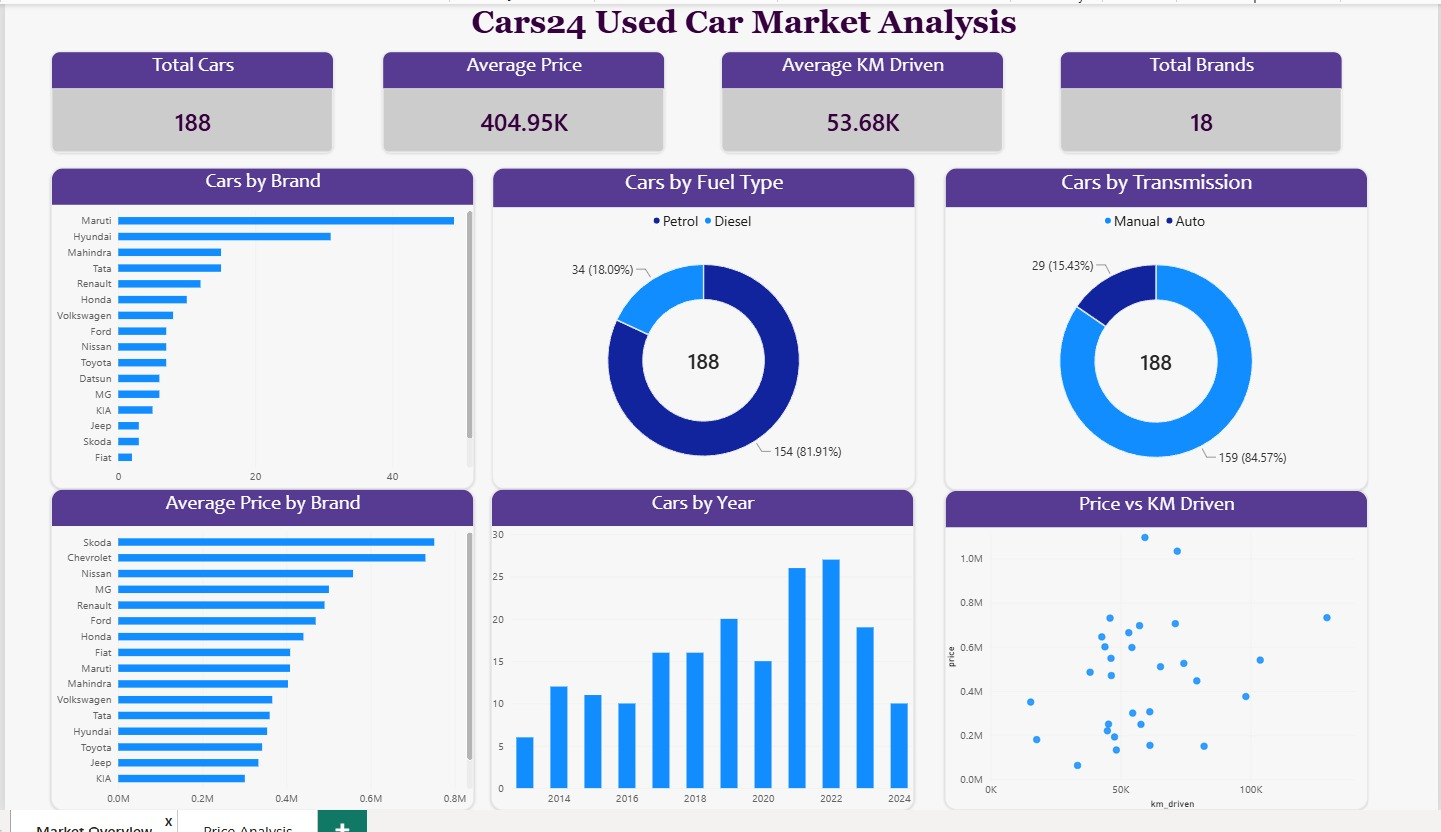

The page's visual inventory and layout, read from the dashboard file:
{"tool":"powerbi","page":{"name":"Market Overview","canvas":[1920,1080],"ordinal":0},"visuals":[{"type":"textbox","box":[251.1,0,1477.9,86.4],"z":0},{"type":"cardVisual","title":"Total Cars","fields":{"Data":["CountNonNull(cars24_hyderabad_final_fixed.car_name)"]},"box":[61.7,63.8,378.7,135.8],"z":1},{"type":"cardVisual","title":"Average Price","fields":{"Data":["Avg(cars24_hyderabad_final_fixed.price)"]},"box":[506.3,63.8,378.7,135.8],"z":2},{"type":"cardVisual","title":"Average KM Driven","fields":{"Data":["Avg(cars24_hyderabad_final_fixed.km_driven)"]},"box":[959.2,63.8,378.7,135.8],"z":3},{"type":"cardVisual","title":"Total Brands","fields":{"Data":["Count(cars24_hyderabad_final_fixed.brand)"]},"box":[1414.1,63.8,378.7,135.8],"z":4},{"type":"clusteredBarChart","title":"Cars by Brand","fields":{"Category":["cars24_hyderabad_final_fixed.brand"],"Y":["CountNonNull(cars24_hyderabad_final_fixed.car_name)"]},"box":[61.7,220.2,566,430.2],"z":5},{"type":"donutChart","title":"Cars by Fuel Type","fields":{"Category":["cars24_hyderabad_final_fixed.fuel_type"],"Y":["CountNonNull(cars24_hyderabad_final_fixed.car_name)"]},"box":[652.5,220.2,566,430.2],"z":6},{"type":"donutChart","title":"Cars by Transmission","fields":{"Category":["cars24_hyderabad_final_fixed.transmission"],"Y":["CountNonNull(cars24_hyderabad_final_fixed.car_name)"]},"box":[1259.7,220.2,566,432.2],"z":7},{"type":"barChart","title":"Average Price by Brand","fields":{"Category":["cars24_hyderabad_final_fixed.brand"],"Y":["Avg(cars24_hyderabad_final_fixed.price)"]},"box":[61.7,650.4,566,430.2],"z":8},{"type":"columnChart","title":"Cars by Year","fields":{"Category":["cars24_hyderabad_final_fixed.year"],"Y":["CountNonNull(cars24_hyderabad_final_fixed.car_name)"]},"box":[652,650,566,430],"z":9},{"type":"scatterChart","title":"Price vs KM Driven","fields":{"X":["cars24_hyderabad_final_fixed.km_driven"],"Y":["cars24_hyderabad_final_fixed.price"]},"box":[1260,652,566,428],"z":10}]}

Visuals, with their boxes on the page's 1920x1080 design canvas (x1, y1, x2, y2). These are canvas units, not pixel positions in the 1441x832 screenshot, which may show the page scaled, cropped or inside an application window:
textbox: crop(251, 0, 1729, 86)
"Total Cars" cardVisual: crop(62, 64, 440, 200)
"Average Price" cardVisual: crop(506, 64, 885, 200)
"Average KM Driven" cardVisual: crop(959, 64, 1338, 200)
"Total Brands" cardVisual: crop(1414, 64, 1793, 200)
"Cars by Brand" clusteredBarChart: crop(62, 220, 628, 650)
"Cars by Fuel Type" donutChart: crop(652, 220, 1218, 650)
"Cars by Transmission" donutChart: crop(1260, 220, 1826, 652)
"Average Price by Brand" barChart: crop(62, 650, 628, 1081)
"Cars by Year" columnChart: crop(652, 650, 1218, 1080)
"Price vs KM Driven" scatterChart: crop(1260, 652, 1826, 1080)
